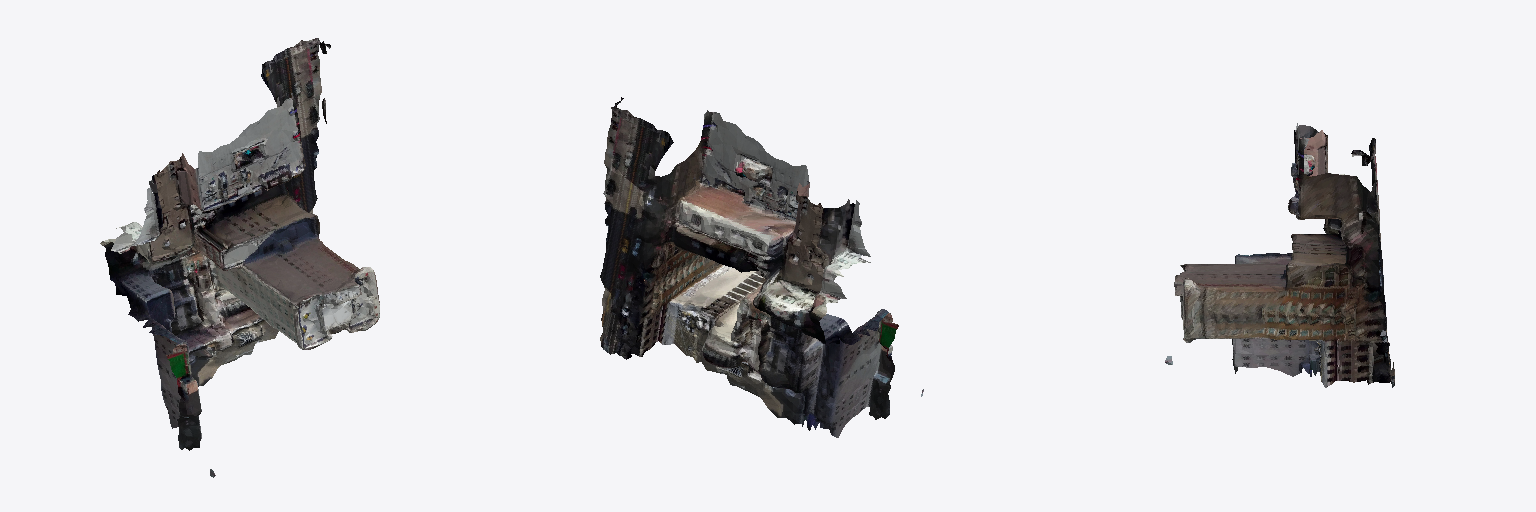
The picture shows the model from 3 angles: view 1: azimuth 30°, elevation 25°; view 2: azimuth 150°, elevation 25°; view 3: azimuth 270°, elevation 25°; orthographic projection.
Size of the model in its own units: 69.08 by 91.09 by 60.01.
Materials: 1 (1 with a texture image).